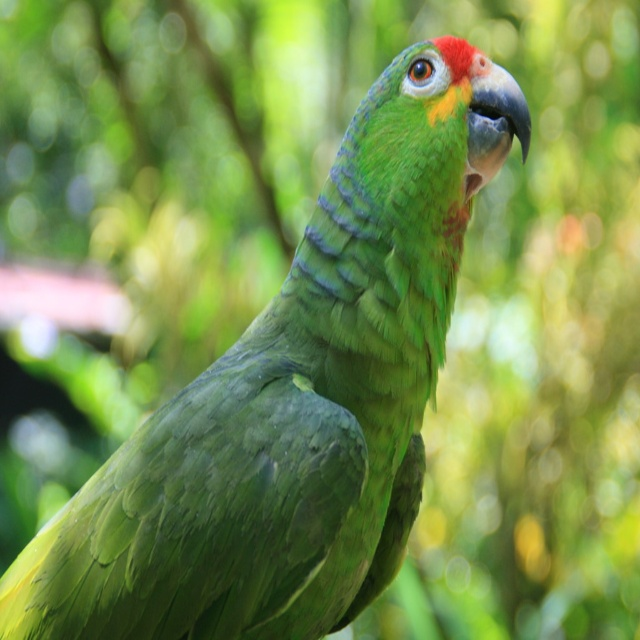Parrot: (0, 30, 531, 639)
